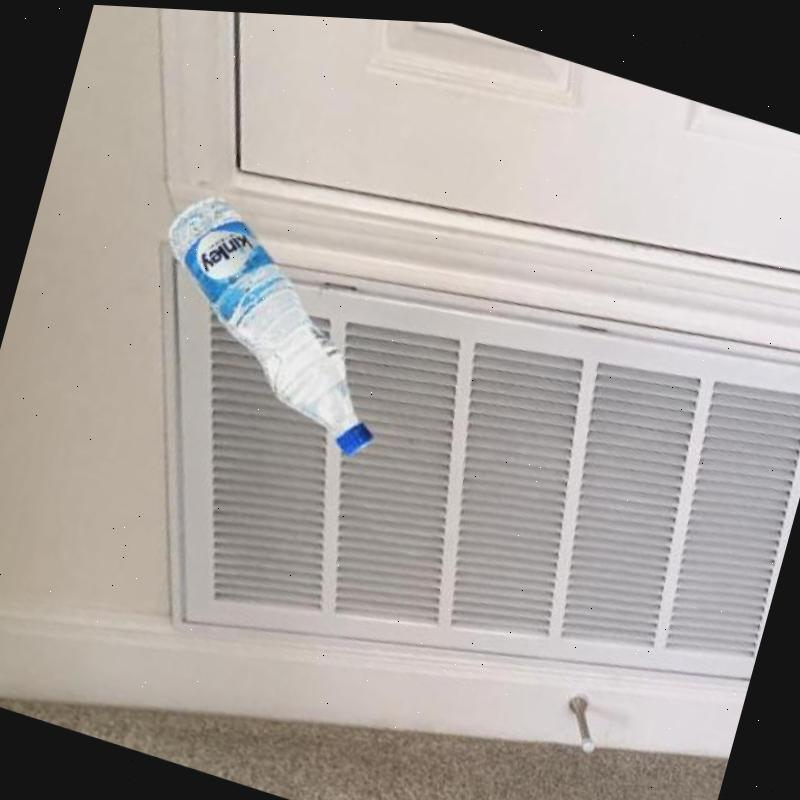botella: (124, 179, 422, 462)
